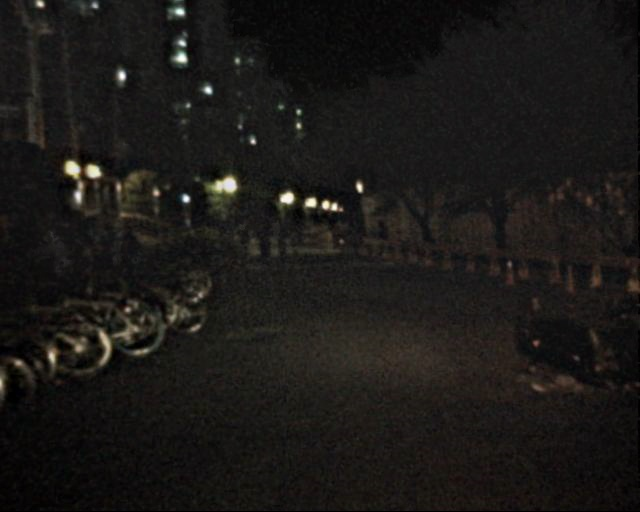person: (47, 226, 70, 283), (103, 222, 124, 274), (221, 217, 253, 251), (269, 216, 290, 266), (123, 223, 143, 272), (254, 222, 273, 269), (374, 221, 392, 264), (290, 221, 307, 246)
